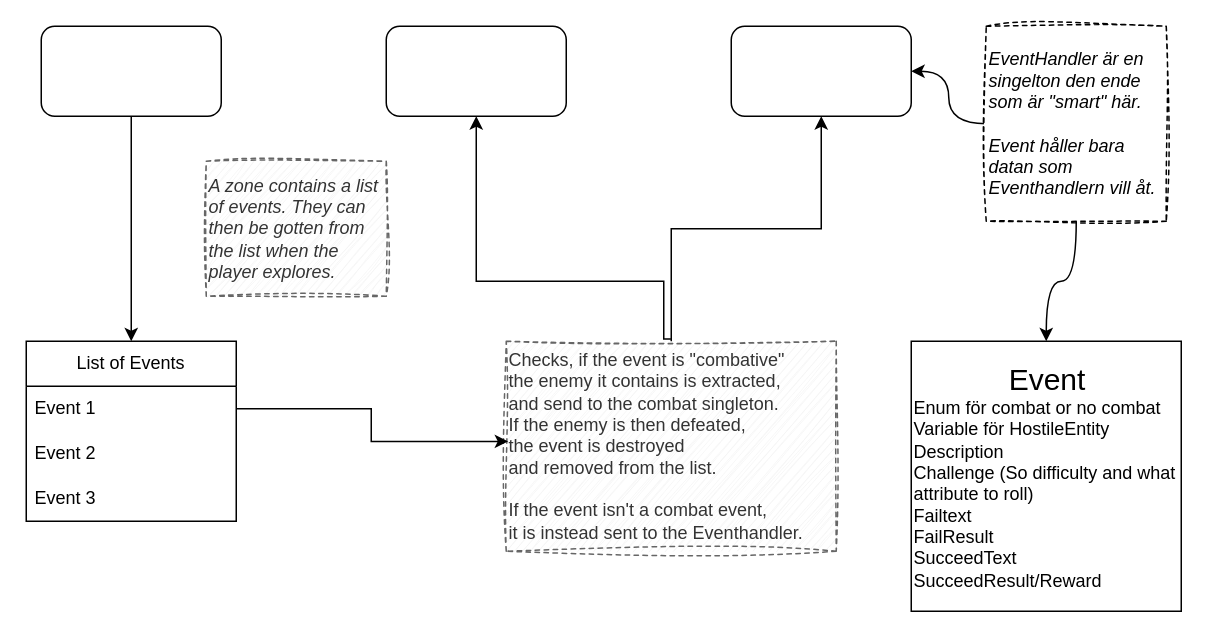
The diagram is 1208 pixels wide and 638 high, and some of its shapes have lost their labels. The shapes that lost their labels are listed below. From the top down, each one's centre as x and y in pixels, then its label:
At pixel 130 70: "Zone".
At pixel 475 70: "Combat".
At pixel 820 70: "EventHandler".
